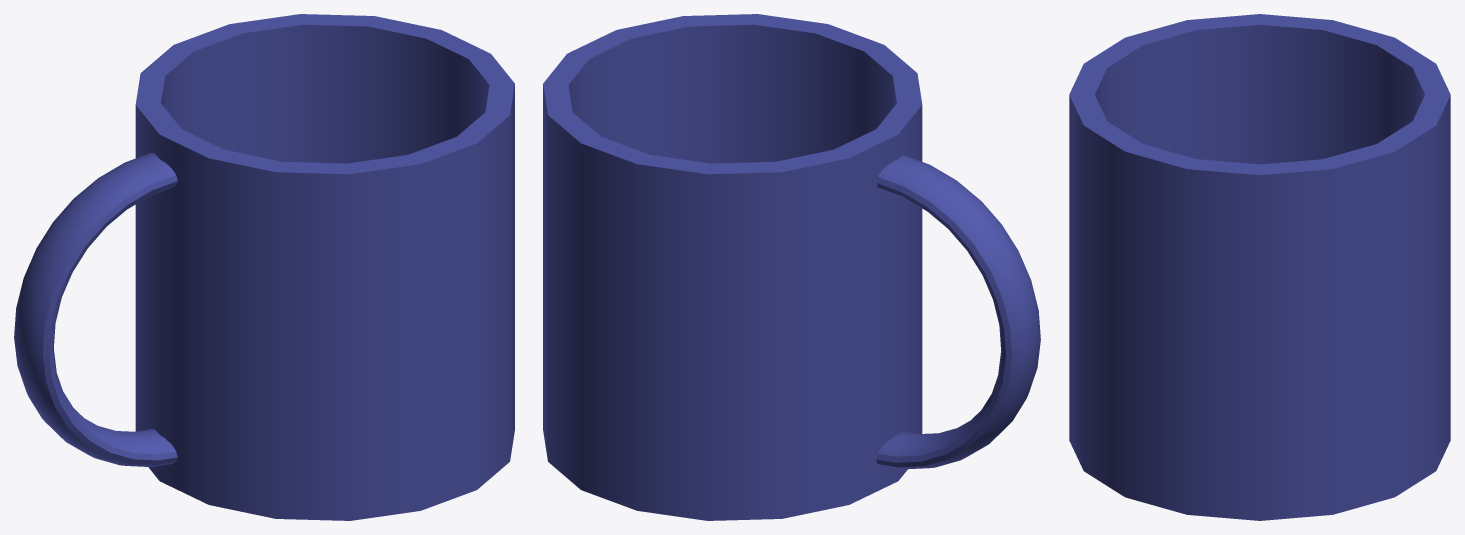
File: TazaAzul.fbx
The picture shows the model from 3 angles, left to right: view 1: azimuth 30°, elevation 25°; view 2: azimuth 150°, elevation 25°; view 3: azimuth 270°, elevation 25°; orthographic projection.
Parts seen in each view (by area): view 1: taza; view 2: taza; view 3: taza.
Boxes of the visible parts, x1=… form: taza: x1=14, y1=14, x2=514, y2=520; taza: x1=543, y1=14, x2=1040, y2=520; taza: x1=1069, y1=14, x2=1450, y2=520.
Bounding box in the file's own units: 15.38 × 10.88 × 10.88.
